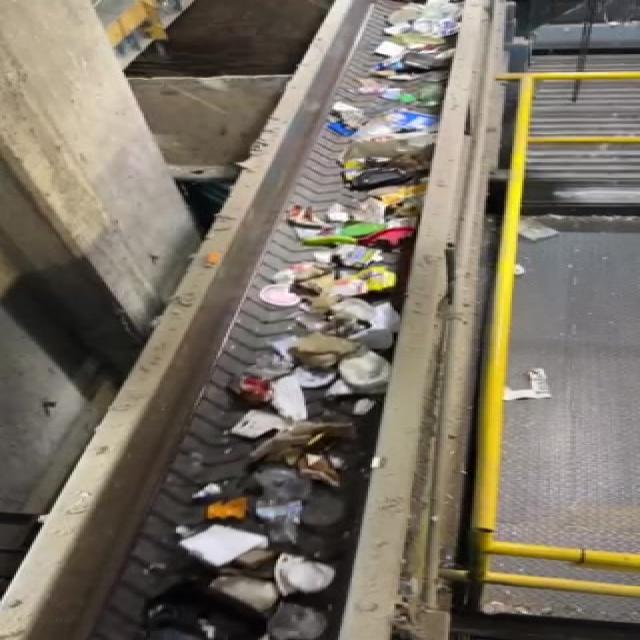paper: (181, 522, 284, 572)
